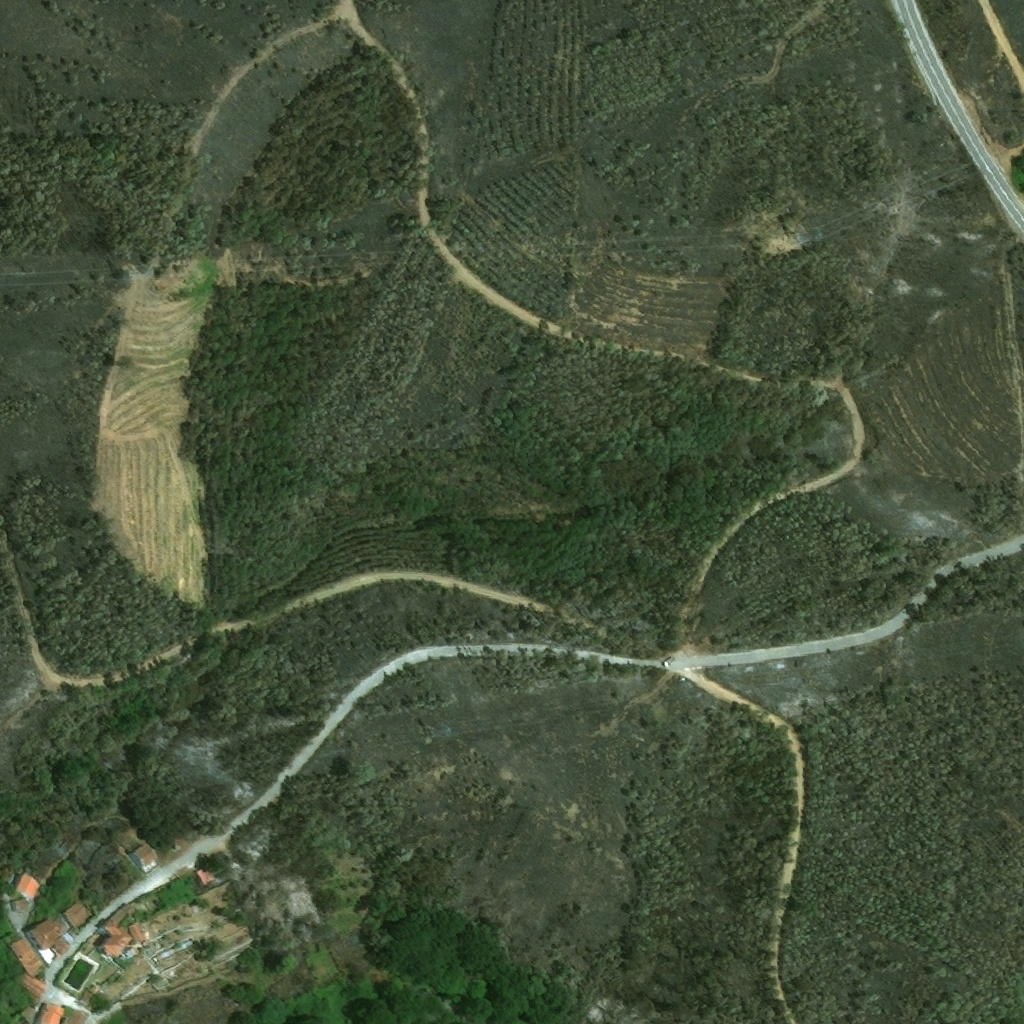0 no-damage: (24, 916, 76, 955), (5, 934, 46, 977), (100, 907, 132, 957), (131, 841, 163, 873), (14, 973, 49, 1001), (62, 898, 93, 929), (15, 872, 43, 900), (33, 1002, 67, 1023), (79, 982, 102, 1008), (195, 864, 217, 884), (129, 920, 146, 942), (66, 1009, 88, 1023), (11, 899, 29, 912), (120, 902, 136, 915)
4 un-classified: (309, 952, 338, 983)
